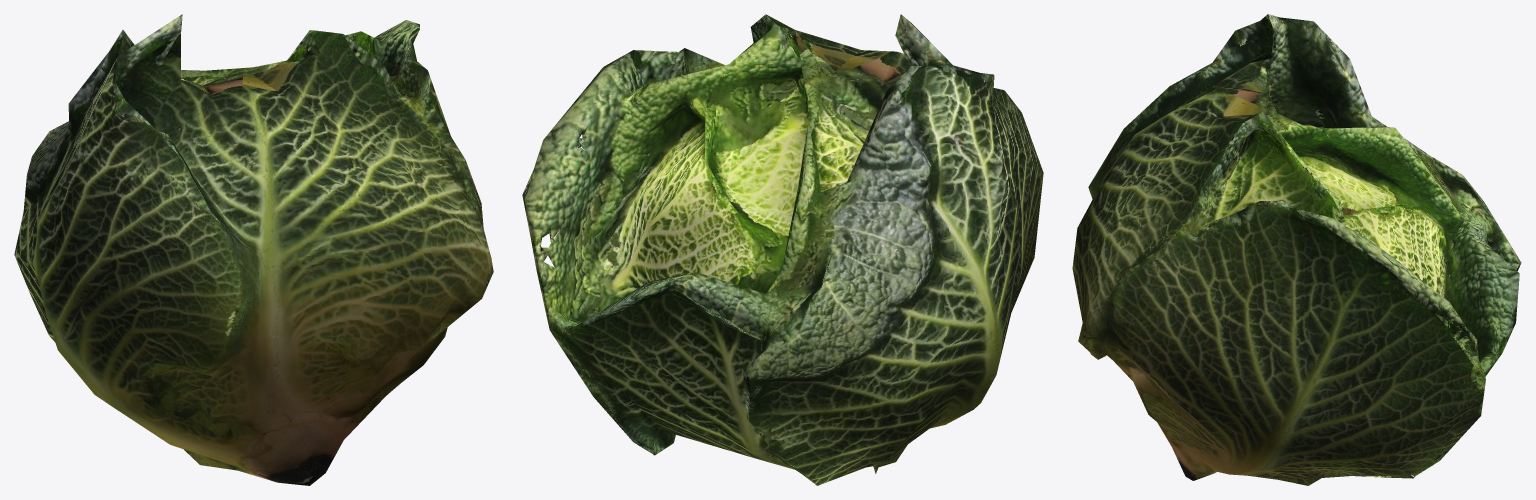
Rendered from GreenVegetableCabbage01.fbx.
3 views of the same model, side by side, from view 1: azimuth 30°, elevation 25°; view 2: azimuth 150°, elevation 25°; view 3: azimuth 270°, elevation 25° (orthographic). The views are drawn at different scales.
Parts seen in each view (by area): view 1: Cabbage01; view 2: Cabbage01; view 3: Cabbage01.
Boxes of the visible parts, bbox=[...] form: Cabbage01: bbox=[14, 14, 493, 485]; Cabbage01: bbox=[522, 14, 1043, 485]; Cabbage01: bbox=[1072, 14, 1521, 485].
Bounding box in the file's own units: 0.1238 × 0.1281 × 0.1352.
1 material, 1 textured.
